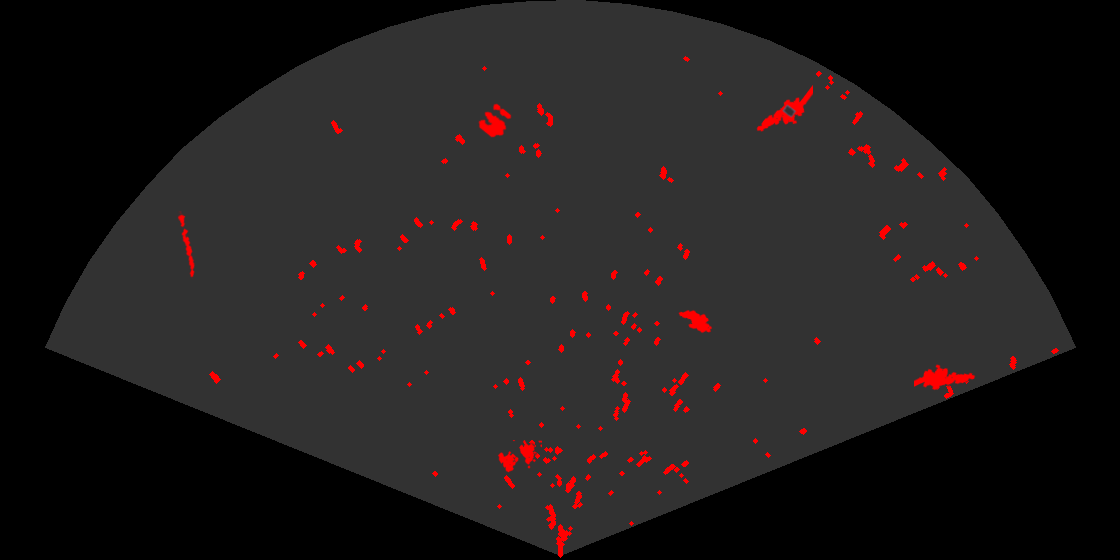AUV: (677, 308, 714, 335)
ball: (477, 102, 513, 139)
cage: (496, 440, 542, 474)
chain: (176, 211, 196, 279)
frogman: (755, 85, 813, 133), (914, 363, 977, 392)
